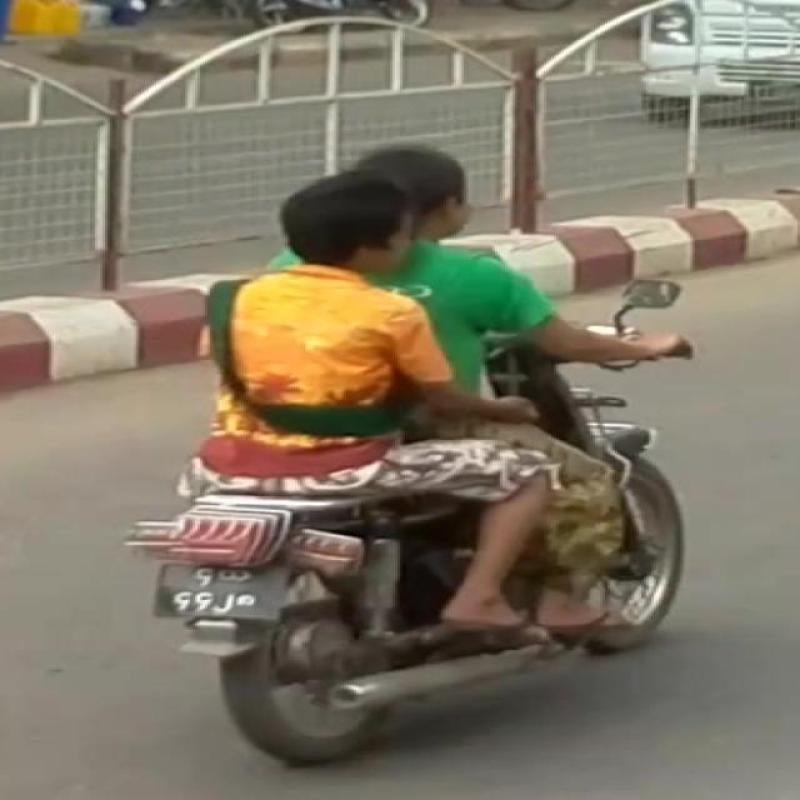nohelmet: (252, 146, 463, 273)
